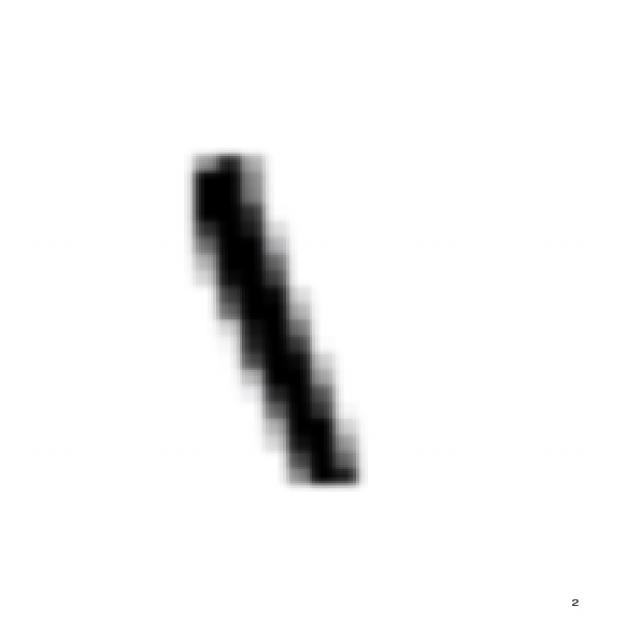1 -one-: (164, 132, 386, 502)
